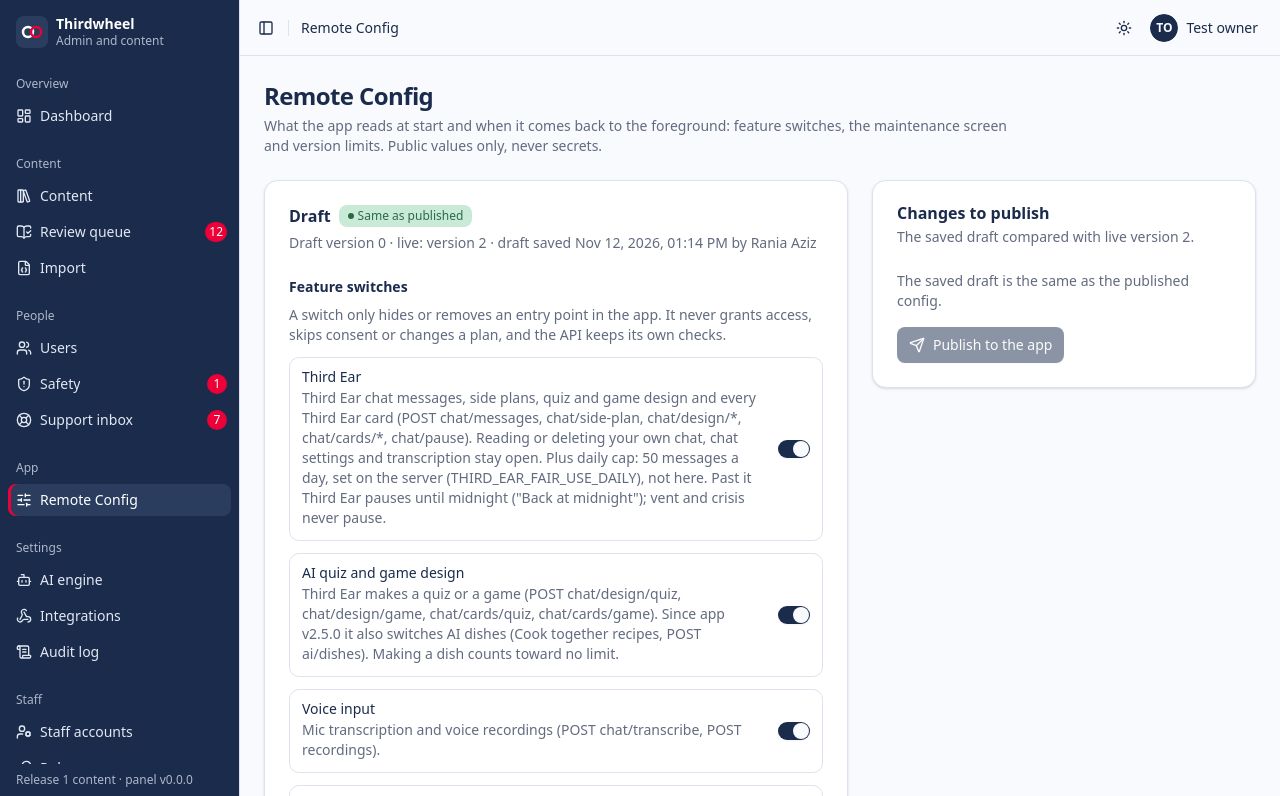
Test: Remote Config page (mock API, reconciled with v2.0.0) › CONFIG_CONFLICT on a draft save: someone saved meanwhile; nothing is overwritten and the page offers the latest
Check: the text "Feature switches" is shown, box [289, 277, 408, 297]
Click the 1st switch named "Third Ear".
click(794, 449)  # box [778, 440, 810, 458]
(page scrolled)
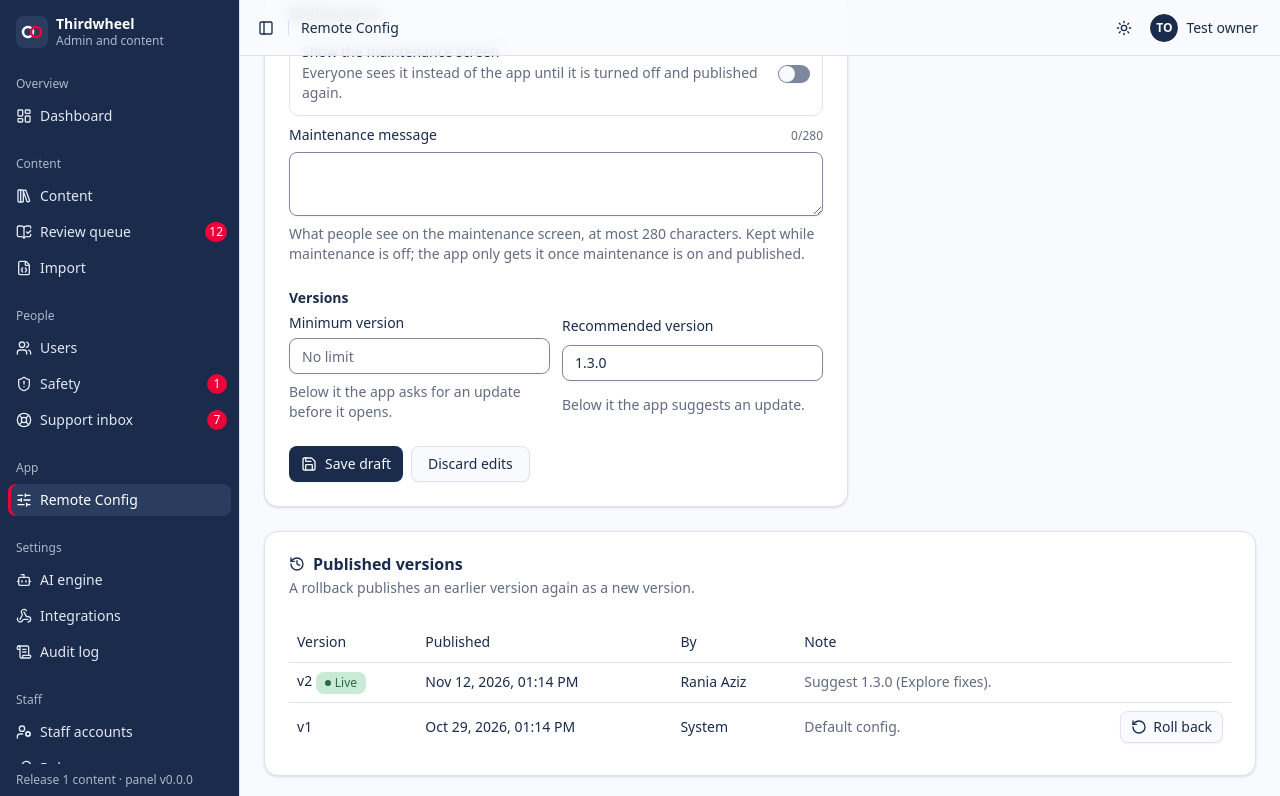
Click the button "Save draft".
click(346, 464)  # box [289, 446, 403, 482]
(page scrolled)
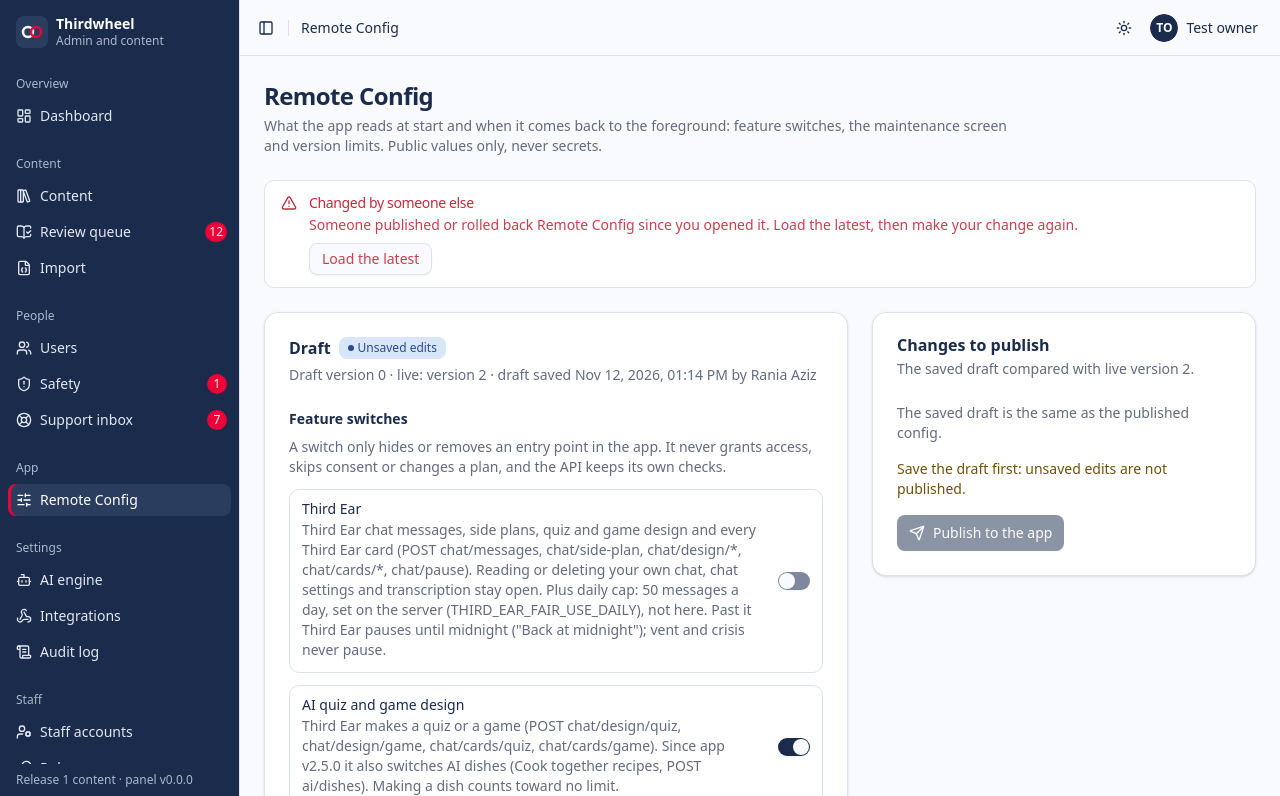
Check: the text "Changed by someone else" is shown, box [309, 193, 474, 212]
Click the button "Load the latest".
click(371, 259)  # box [309, 243, 432, 275]
(page scrolled)
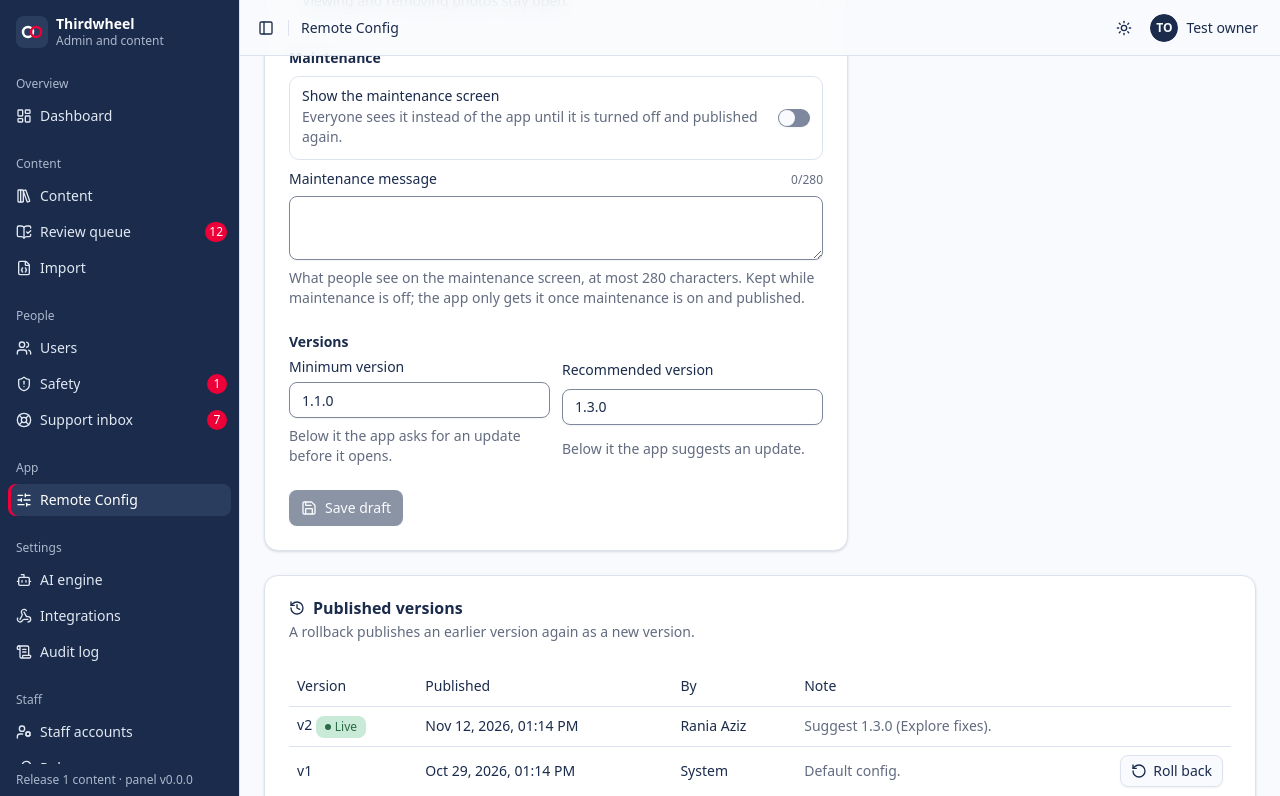
Check: the field labelled "Minimum version" holds "1.1.0", box [289, 382, 550, 418]
